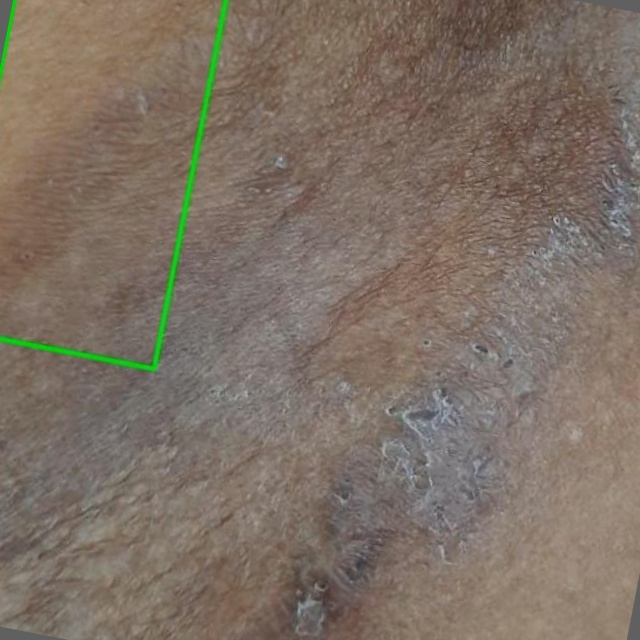Contact Dermatitis: (0, 0, 225, 368)
